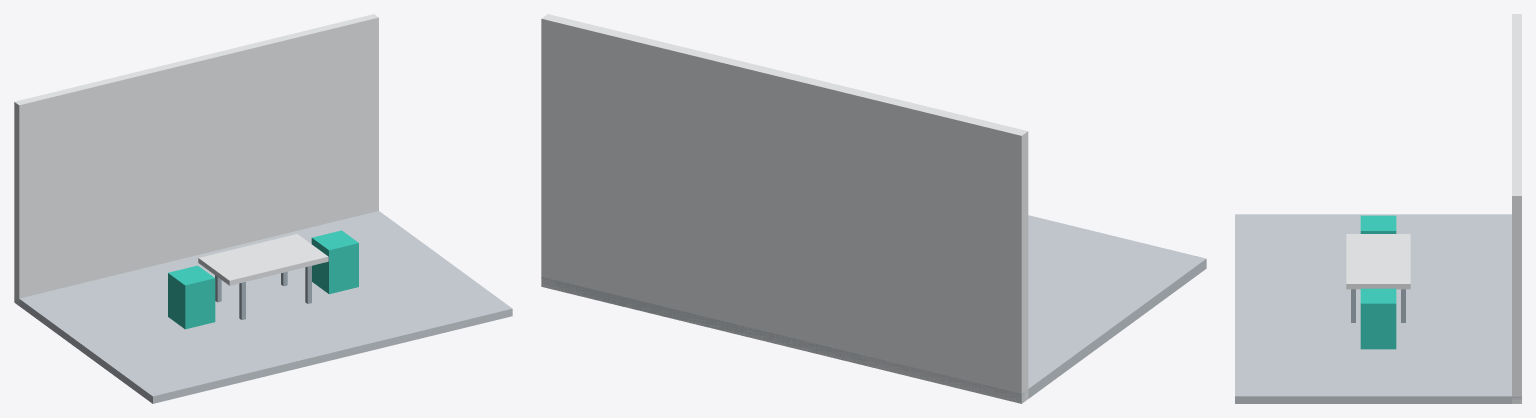
3 views of the same model, side by side, from view 1: azimuth 30°, elevation 25°; view 2: azimuth 150°, elevation 25°; view 3: azimuth 270°, elevation 25° (orthographic). The views are drawn at different scales.
Visible parts, largest first — view 1: Exhibition Booth Concept; view 2: Exhibition Booth Concept; view 3: Exhibition Booth Concept.
Boxes of the visible parts, x1,y1,x2,y2 form: Exhibition Booth Concept: (14,14,512,403); Exhibition Booth Concept: (541,14,1206,403); Exhibition Booth Concept: (1235,14,1521,403).
Bounding box in the file's own units: 6 × 3.2 × 4.
